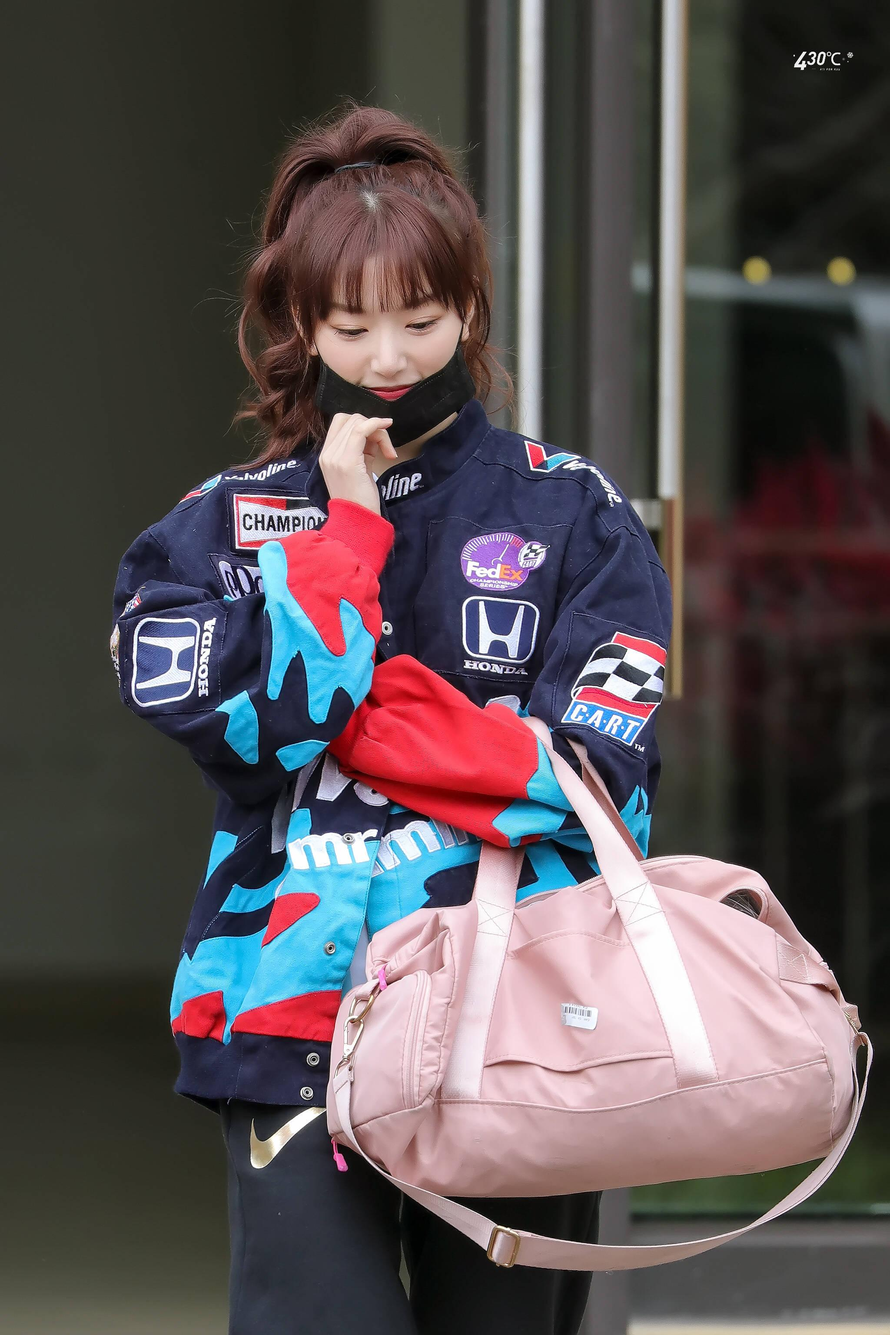WRONG: (315, 269, 460, 438)
